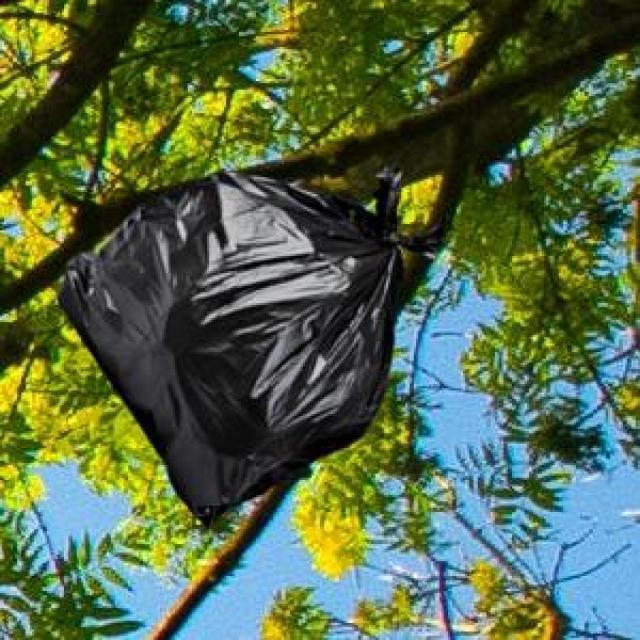Trashbag: (55, 158, 459, 514)
